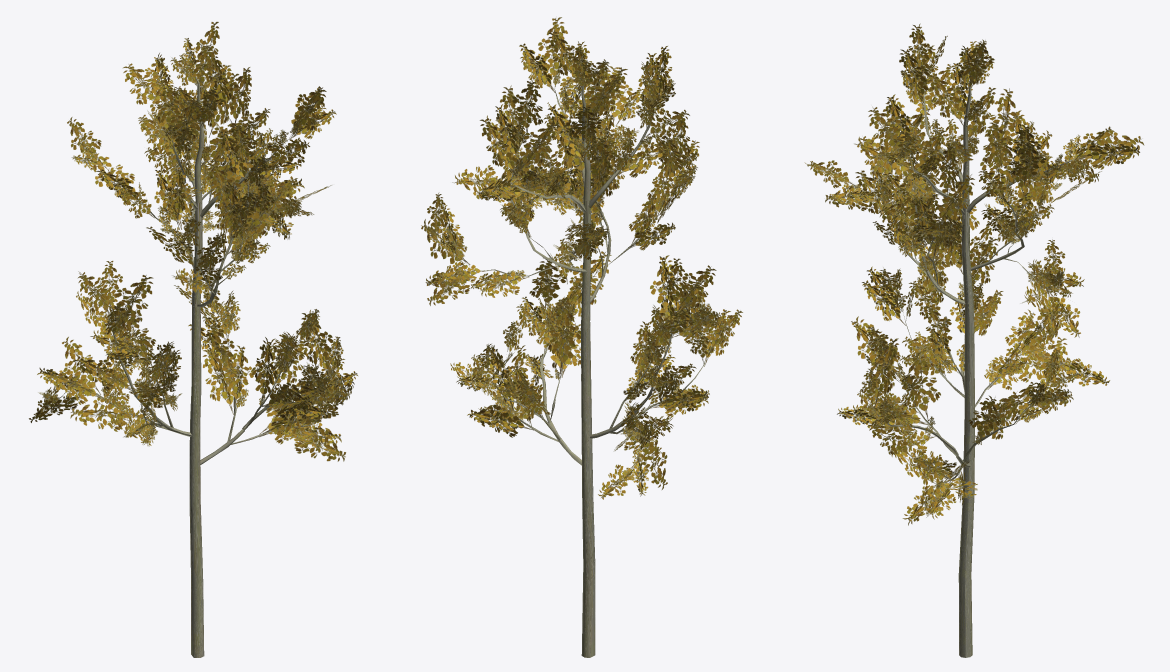
The model's file is alamo_joven.glb.
3 views of the same model, side by side, from view 1: azimuth 30°, elevation 25°; view 2: azimuth 150°, elevation 25°; view 3: azimuth 270°, elevation 25° (orthographic).
Visible parts, largest first — view 1: alamo_joven_hojas, alamo_joven_ramas; view 2: alamo_joven_hojas, alamo_joven_ramas; view 3: alamo_joven_hojas, alamo_joven_ramas.
Part boxes in pixels (x1,y1,x2,y2): alamo_joven_hojas: [29, 21, 357, 461]; alamo_joven_ramas: [59, 77, 329, 657]; alamo_joven_hojas: [421, 17, 742, 499]; alamo_joven_ramas: [453, 76, 706, 657]; alamo_joven_hojas: [804, 23, 1144, 525]; alamo_joven_ramas: [870, 86, 1075, 657].
Bounding box in the file's own units: 2.63 × 5.48 × 2.86.
2 materials, 2 textured.
